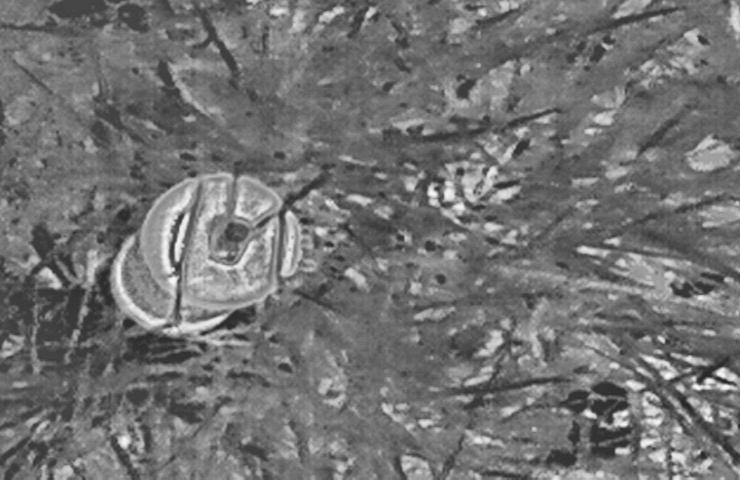landmines: (109, 162, 310, 352)
